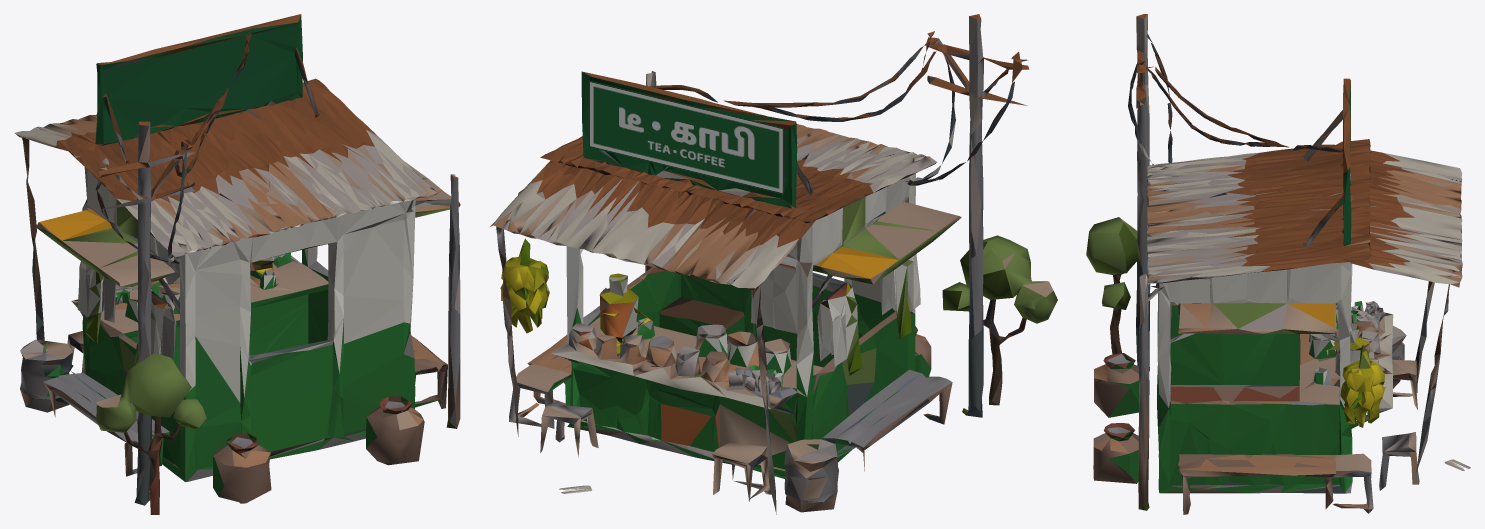
File: tea_stall_b.glb
The picture shows the model from 3 angles, left to right: view 1: azimuth 30°, elevation 25°; view 2: azimuth 150°, elevation 25°; view 3: azimuth 270°, elevation 25°; orthographic projection. The views are drawn at different scales.
Visible parts, largest first — view 1: stall; view 2: stall, sign; view 3: stall.
Part boxes in pixels (box(x1,y1,x2,y2)): stall: box(15, 14, 460, 514); stall: box(490, 14, 1057, 514); sign: box(588, 80, 783, 194); stall: box(1086, 14, 1470, 514).
Size of the model in its own units: 3.83 by 3.51 by 3.46.
2 materials, 1 textured.
